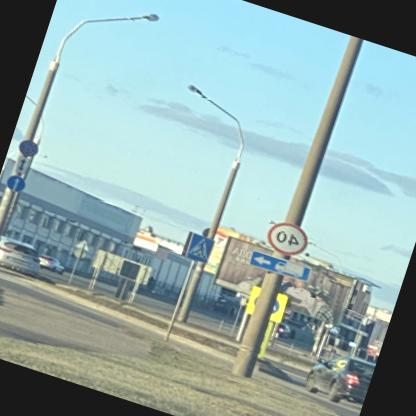crosswalk: (186, 231, 219, 264)
speedlimit: (266, 218, 314, 260)
